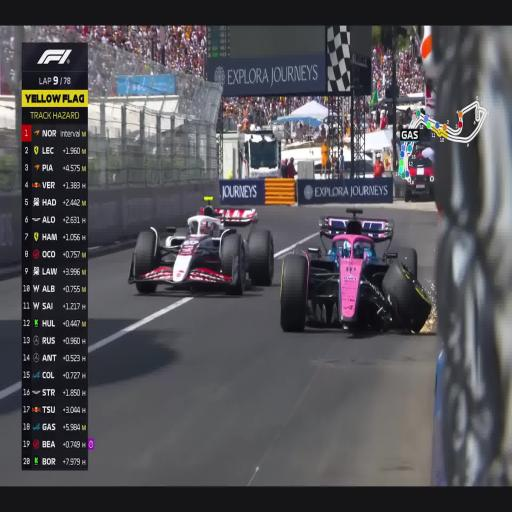f1_car: (281, 208, 431, 332), (128, 197, 274, 294)
